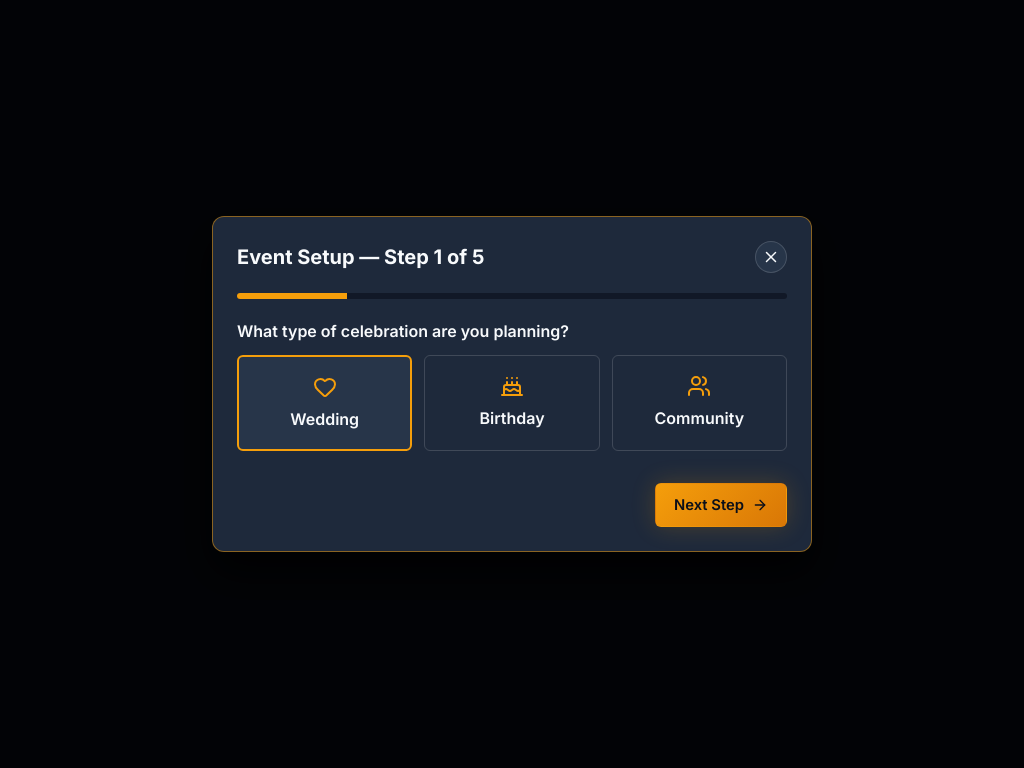
Scenario: Full User Journey — End-to-End Acceptance Tests › navigates backwards through wizard steps using back button
Click the button "Next Step" at x=721, y=505, box [655,483,787,527]
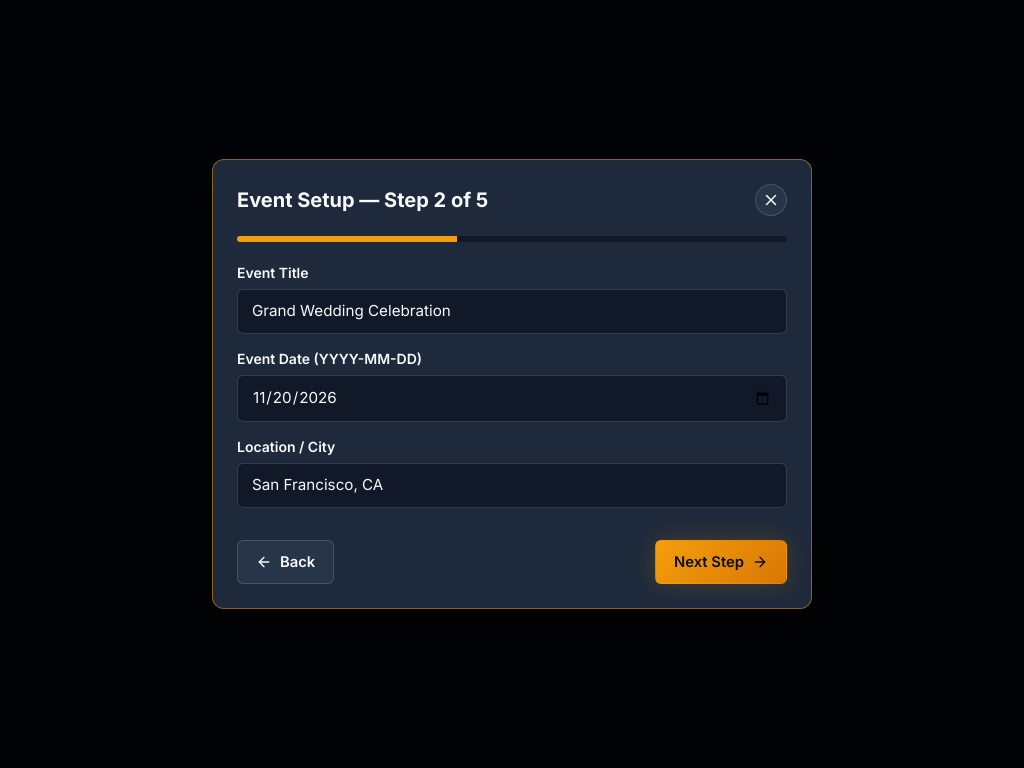
Expected: the field labelled "Event Title" is shown, [237,289,787,334]
Click the button "Back" at x=286, y=562, box [237,540,334,584]
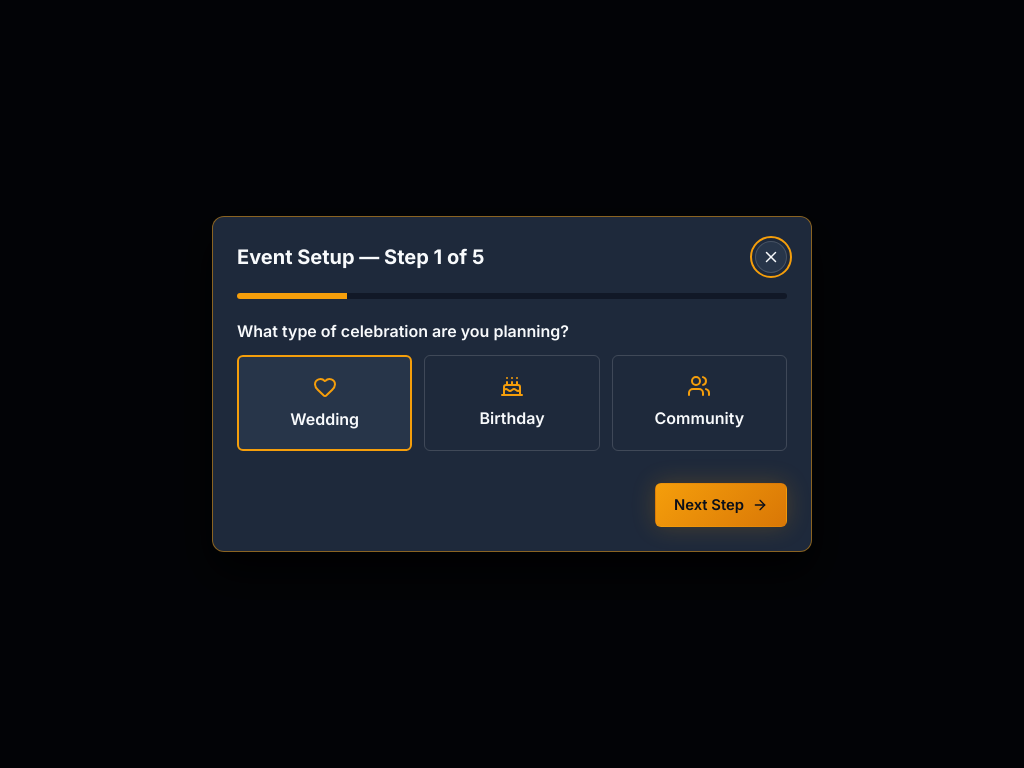
Expected: the text "What type of celebration are you planning?" is shown, [237,321,569,341]
